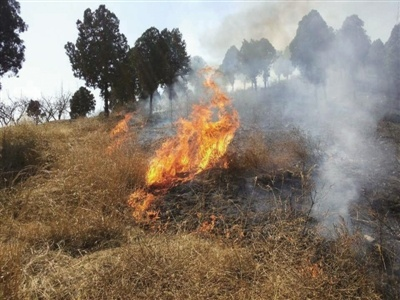fire: (134, 62, 241, 236), (106, 108, 136, 150), (194, 211, 224, 234)
